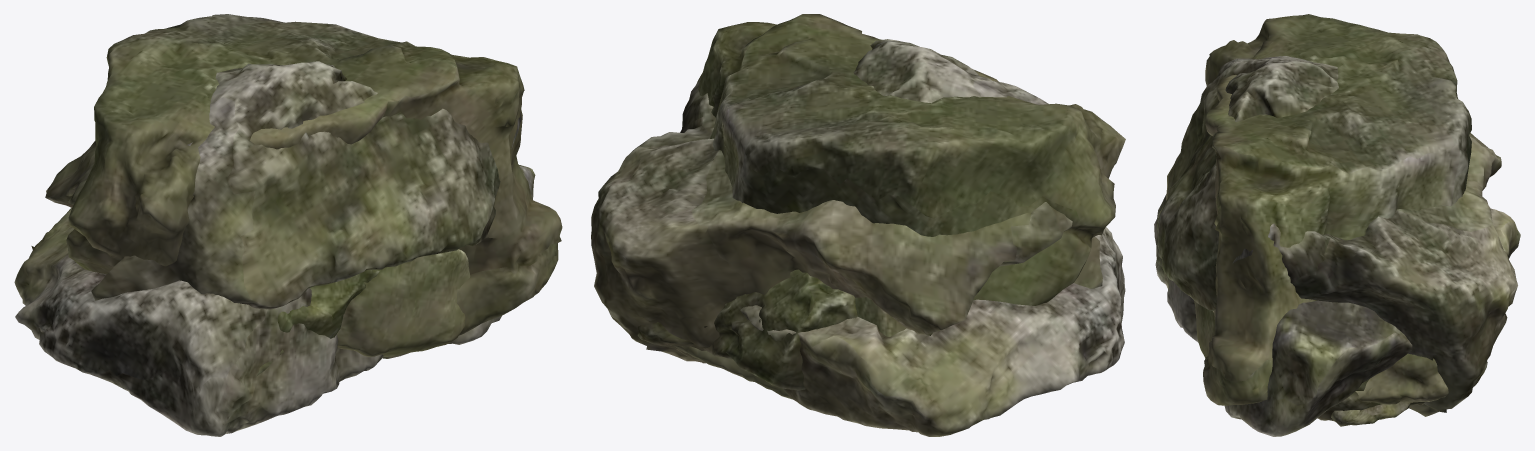
Rendered from rock_moss_set_02.glb.
The picture shows the model from 3 angles, left to right: view 1: azimuth 30°, elevation 25°; view 2: azimuth 150°, elevation 25°; view 3: azimuth 270°, elevation 25°; orthographic projection. The views are drawn at different scales.
Parts seen in each view (by area): view 1: rock_moss_set_02_f_lod0, rock_moss_set_02_b_lod0, rock_moss_set_02_g_lod0, rock_moss_set_02_a_lod0, rock_moss_set_02_d_lod0; view 2: rock_moss_set_02_f_lod0, rock_moss_set_02_b_lod0, rock_moss_set_02_g_lod0, rock_moss_set_02_d_lod0, rock_moss_set_02_a_lod0; view 3: rock_moss_set_02_f_lod0, rock_moss_set_02_b_lod0, rock_moss_set_02_g_lod0, rock_moss_set_02_a_lod0, rock_moss_set_02_e_lod0, rock_moss_set_02_d_lod0.
Boxes of the visible parts, x1,y1,x2,y2 form: rock_moss_set_02_f_lod0: [66, 14, 562, 358]; rock_moss_set_02_b_lod0: [45, 61, 521, 309]; rock_moss_set_02_g_lod0: [14, 165, 535, 436]; rock_moss_set_02_a_lod0: [337, 249, 470, 356]; rock_moss_set_02_d_lod0: [257, 270, 379, 375]; rock_moss_set_02_f_lod0: [696, 14, 1125, 305]; rock_moss_set_02_b_lod0: [591, 39, 1102, 363]; rock_moss_set_02_g_lod0: [740, 227, 1125, 436]; rock_moss_set_02_d_lod0: [637, 272, 857, 390]; rock_moss_set_02_a_lod0: [674, 269, 906, 399]; rock_moss_set_02_f_lod0: [1203, 14, 1471, 405]; rock_moss_set_02_b_lod0: [1157, 56, 1517, 416]; rock_moss_set_02_g_lod0: [1154, 194, 1520, 436]; rock_moss_set_02_a_lod0: [1194, 300, 1448, 404]; rock_moss_set_02_e_lod0: [1331, 401, 1411, 426]; rock_moss_set_02_d_lod0: [1317, 361, 1487, 420].
Size of what is drawn, in the model's own units: 2.2 by 1.31 by 1.55.
Materials: 1 (1 with a texture image).
